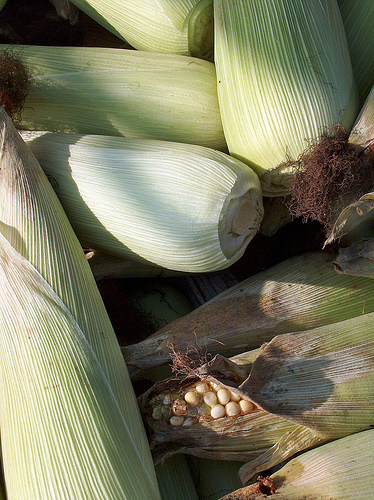corn: (140, 312, 372, 470)
